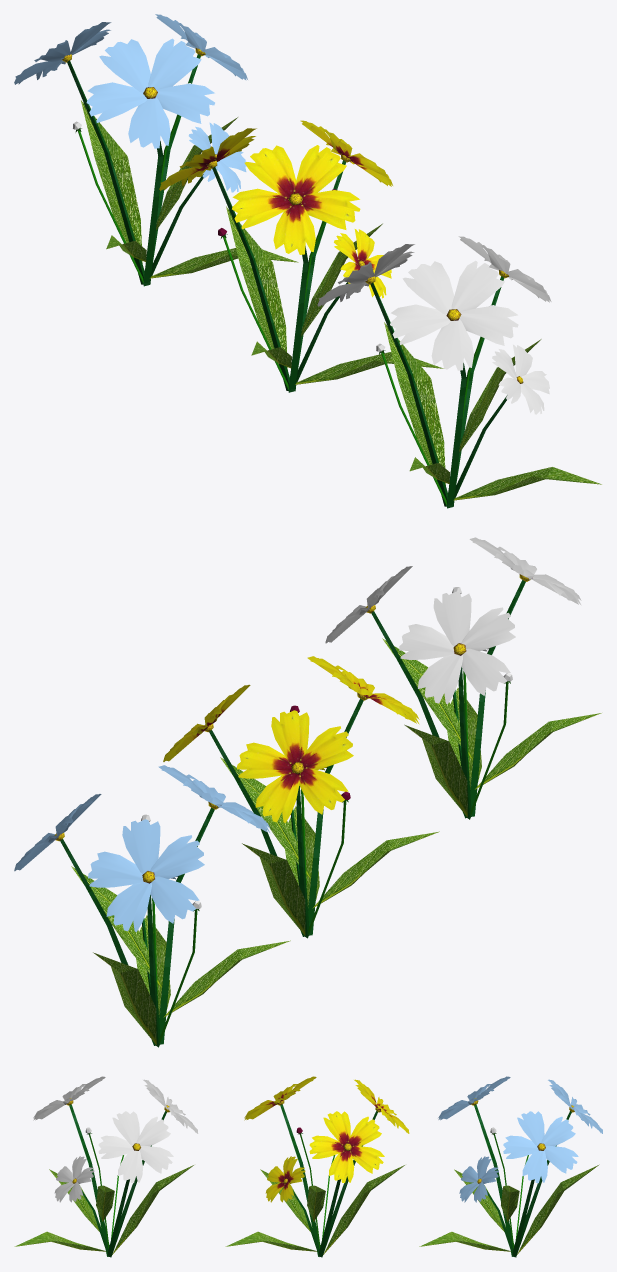
File: Coreopsis.glb
3 views of the same model, one above another, from view 1: azimuth 30°, elevation 25°; view 2: azimuth 150°, elevation 25°; view 3: azimuth 270°, elevation 25° (orthographic). The views are drawn at different scales.
Parts seen in each view (by area): view 1: Circle.008, Circle.003, Circle.015; view 2: Circle.015, Circle.008, Circle.003; view 3: Circle.008, Circle.003, Circle.015.
Boxes of the visible parts, x1,y1,x2,y2 form: Circle.008: (317,236,601,508); Circle.003: (159,120,443,392); Circle.015: (14,14,298,286); Circle.015: (14,765,290,1047); Circle.008: (325,537,601,819); Circle.003: (163,656,439,938); Circle.008: (14,1076,198,1257); Circle.003: (225,1076,409,1257); Circle.015: (419,1076,602,1257).
Bounding box in the file's own units: 1.44 × 1.77 × 5.55.
Materials: 9 (4 with a texture image).
